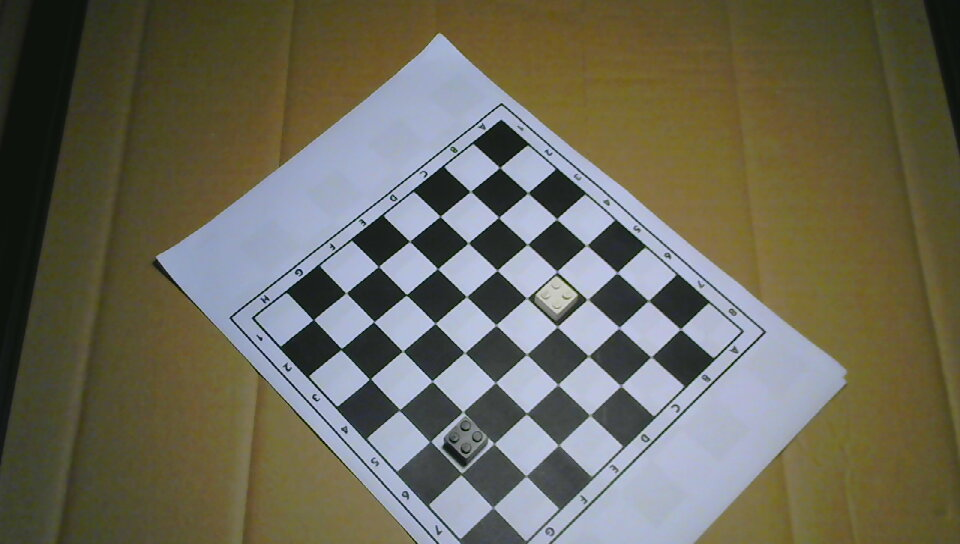bp: (443, 414, 487, 465)
wp: (535, 275, 577, 321)
